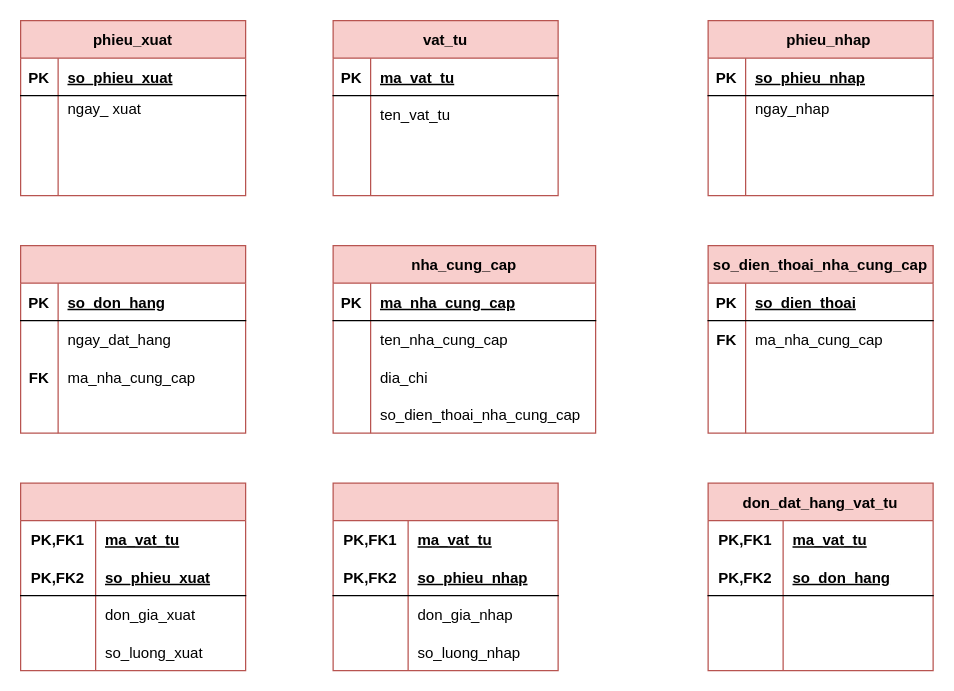
Image size: 954x691. Some labels were removed from this diagram. The box of each missing label's shape, as (x1, y1, x2, y2) in pixels:
don_dat_hang: (19, 244, 246, 433)
phieu_nhap_vat_tu: (332, 482, 558, 671)
phieu_xuat_vat_tu: (19, 482, 246, 671)
